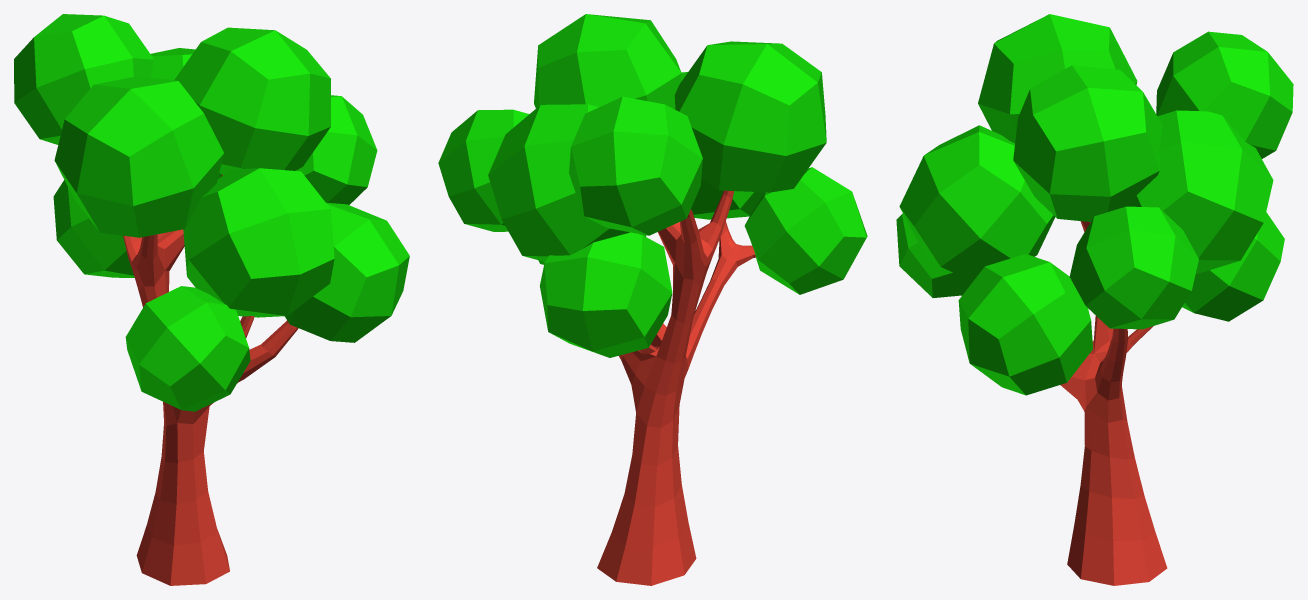
Rendered from treecube_2.fbx.
3 views of the same model, side by side, from view 1: azimuth 30°, elevation 25°; view 2: azimuth 150°, elevation 25°; view 3: azimuth 270°, elevation 25° (orthographic). The views are drawn at different scales.
Parts seen in each view (by area): view 1: Cube.015, Cube.014, Cube.013, Cube.012, Cube.019, Cube.016, Cube.018, Cube.017, Cube.020, Cube.021; view 2: Cube.012, Cube.015, Cube.016, Cube.020, Cube.021, Cube.013, Cube.019, Cube.017, Cube.014; view 3: Cube.013, Cube.012, Cube.014, Cube.018, Cube.021, Cube.017, Cube.016, Cube.015, Cube.020, Cube.019.
Part boxes in pixels (box(x1,y1,x2,y2)): Cube.015: box(54, 76, 224, 237); Cube.014: box(183, 168, 334, 317); Cube.013: box(174, 27, 330, 174); Cube.012: box(123, 175, 298, 585); Cube.019: box(125, 286, 250, 411); Cube.016: box(14, 14, 153, 144); Cube.018: box(285, 202, 409, 342); Cube.017: box(295, 95, 377, 204); Cube.020: box(53, 180, 134, 277); Cube.021: box(150, 48, 221, 178); Cube.012: box(597, 190, 755, 585); Cube.015: box(674, 41, 826, 192); Cube.016: box(569, 96, 702, 235); Cube.020: box(540, 232, 672, 357); Cube.021: box(488, 104, 644, 261); Cube.013: box(534, 14, 681, 109); Cube.019: box(744, 167, 867, 294); Cube.017: box(438, 109, 529, 231); Cube.014: box(681, 72, 764, 219); Cube.013: box(1013, 65, 1162, 221); Cube.012: box(1060, 221, 1167, 585); Cube.014: box(899, 125, 1055, 281); Cube.018: box(958, 254, 1092, 395); Cube.021: box(1129, 110, 1273, 273); Cube.017: box(1069, 206, 1198, 329); Cube.016: box(1156, 31, 1293, 158); Cube.015: box(978, 14, 1137, 143); Cube.020: box(1182, 212, 1284, 321); Cube.019: box(896, 213, 972, 297).
Size of the model in its own units: 634 by 959 by 671.
